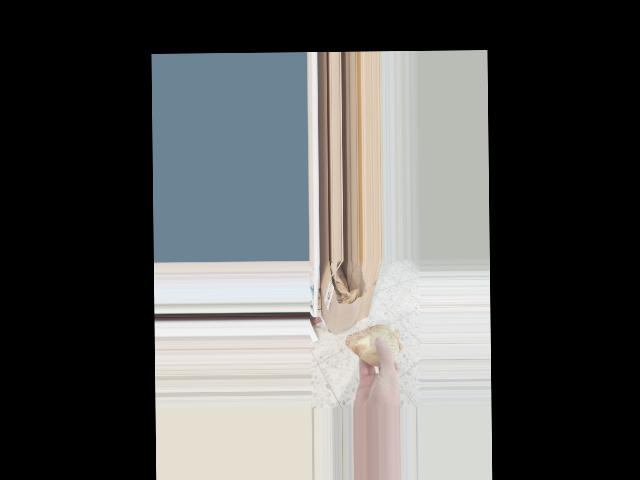onion: (343, 317, 401, 371)
